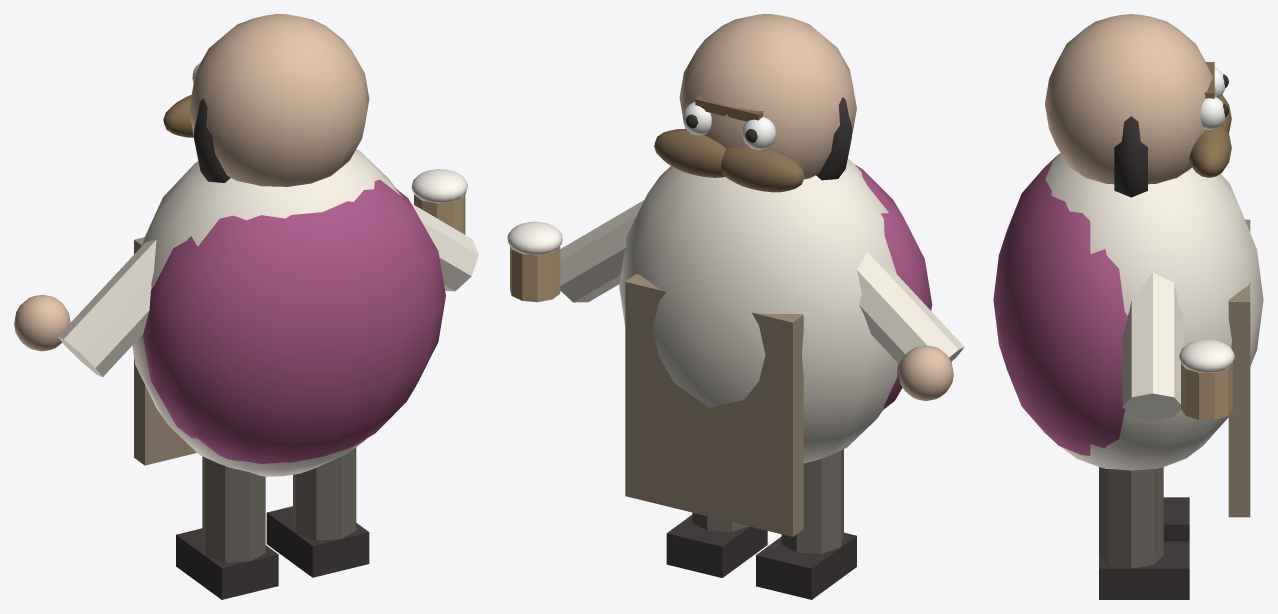
Rendered from Announcer_Host.fbx.
3 renders of one model, left to right at view 1: azimuth 30°, elevation 25°; view 2: azimuth 150°, elevation 25°; view 3: azimuth 270°, elevation 25°, orthographic.
Parts seen in each view (by area): view 1: Torso, Head, LegL, ArmL, LegR, ArmR; view 2: Torso, Head, LegL, ArmR, ArmL, LegR; view 3: Torso, Head, ArmR, LegR, LegL.
Part boxes in pixels (box(x1,y1,x2,y2)): Torso: box(132, 149, 445, 476); Head: box(163, 14, 369, 186); LegL: box(176, 456, 278, 599); ArmL: box(14, 239, 156, 377); LegR: box(266, 447, 369, 577); ArmR: box(411, 169, 478, 291); Torso: box(619, 158, 932, 536); Head: box(654, 14, 856, 192); LegL: box(756, 449, 856, 599); ArmR: box(507, 200, 644, 302); ArmL: box(857, 252, 964, 400); LegR: box(666, 512, 767, 577); Torso: box(993, 153, 1263, 517); Head: box(1045, 14, 1231, 197); ArmR: box(1122, 272, 1234, 420); LegR: box(1099, 467, 1189, 599); LegL: box(1163, 497, 1189, 541).
Bounding box in the file's own units: 236 × 277 × 125.
